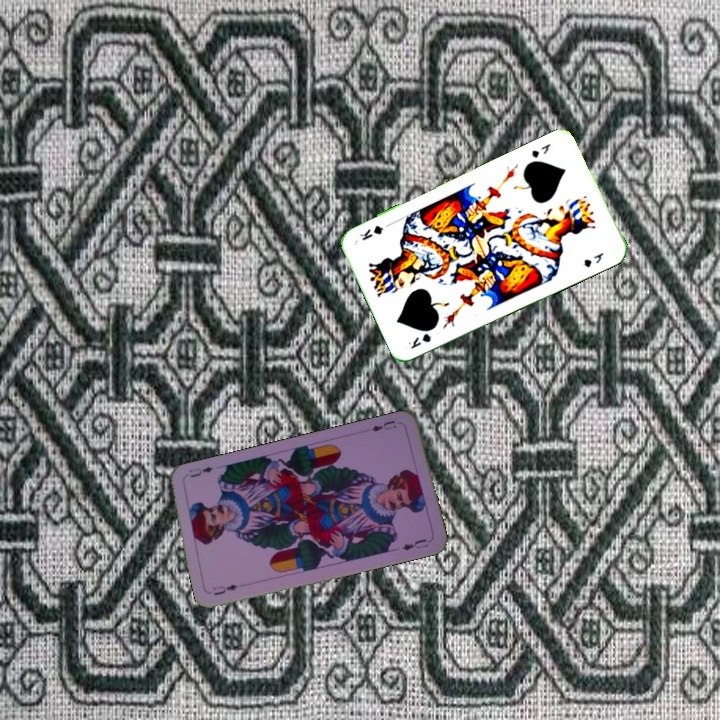EU: (367, 416, 399, 434), (209, 580, 240, 598)
GK: (404, 329, 433, 352), (527, 139, 553, 161)
